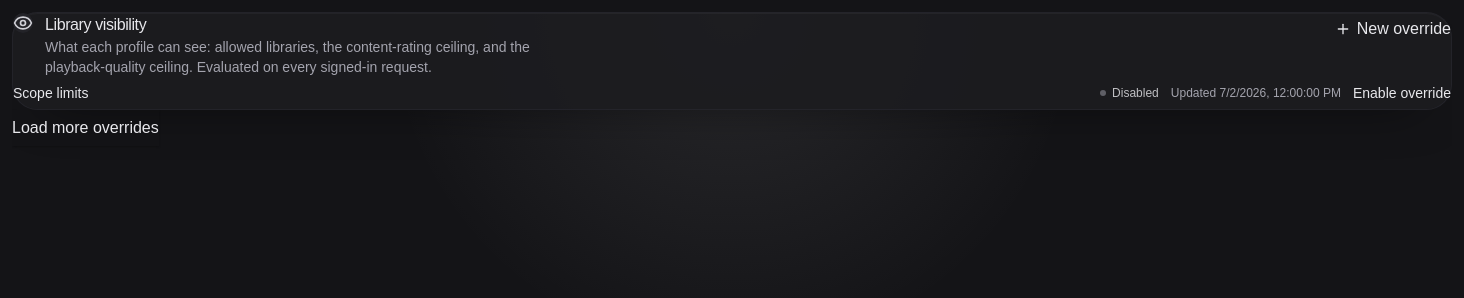
Test: PolicyDocumentList › reviews a canonical revision before enabling and preserves conflicts
The image size is (1464, 298).
Click the button "Enable override" at (1402, 93), box [1353,77,1451,109]
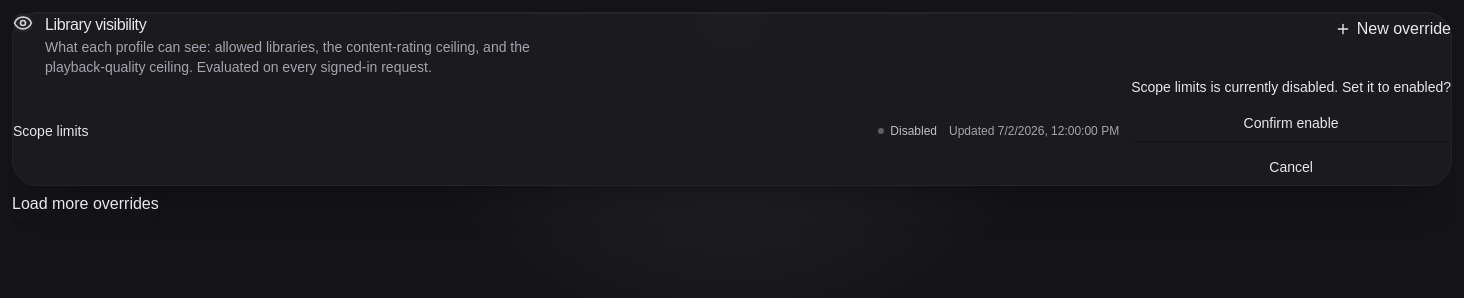
Click the button "Confirm enable" at (1291, 123), box [1131,105,1451,141]
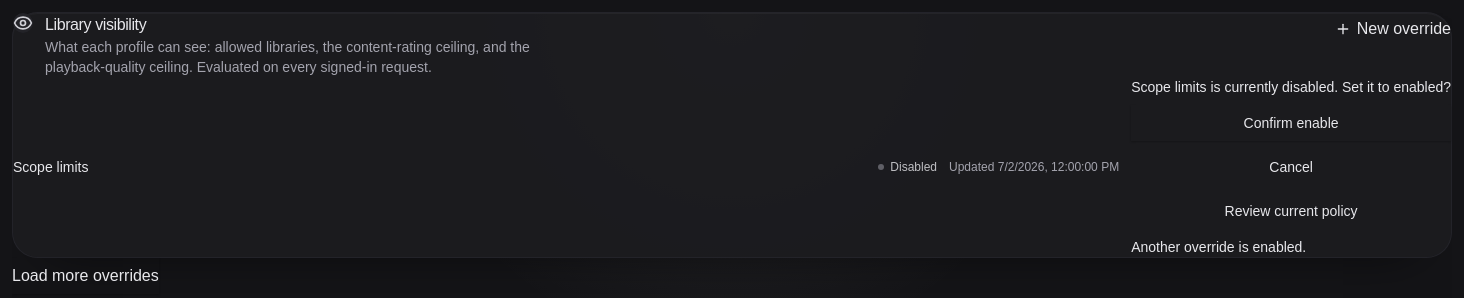
Now the button "Confirm enable" is shown, box [1131,105,1451,141]
Now the text "Another override is enabled." is shown, box [1131,239,1306,255]
